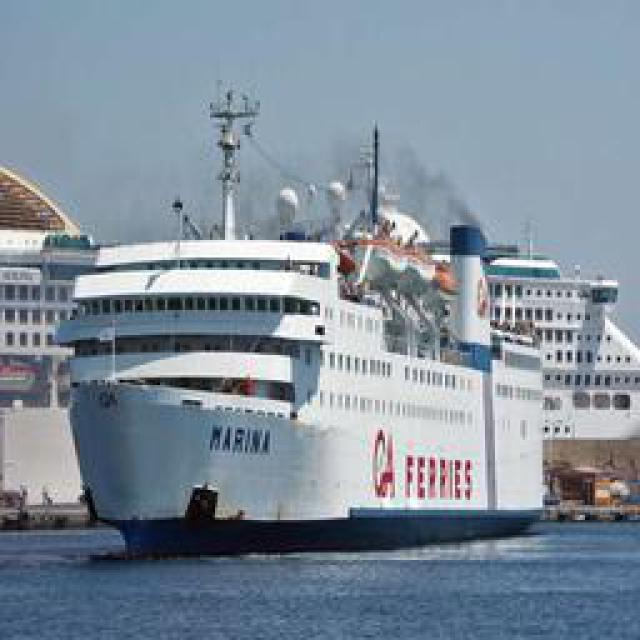Ship: (61, 201, 566, 541)
